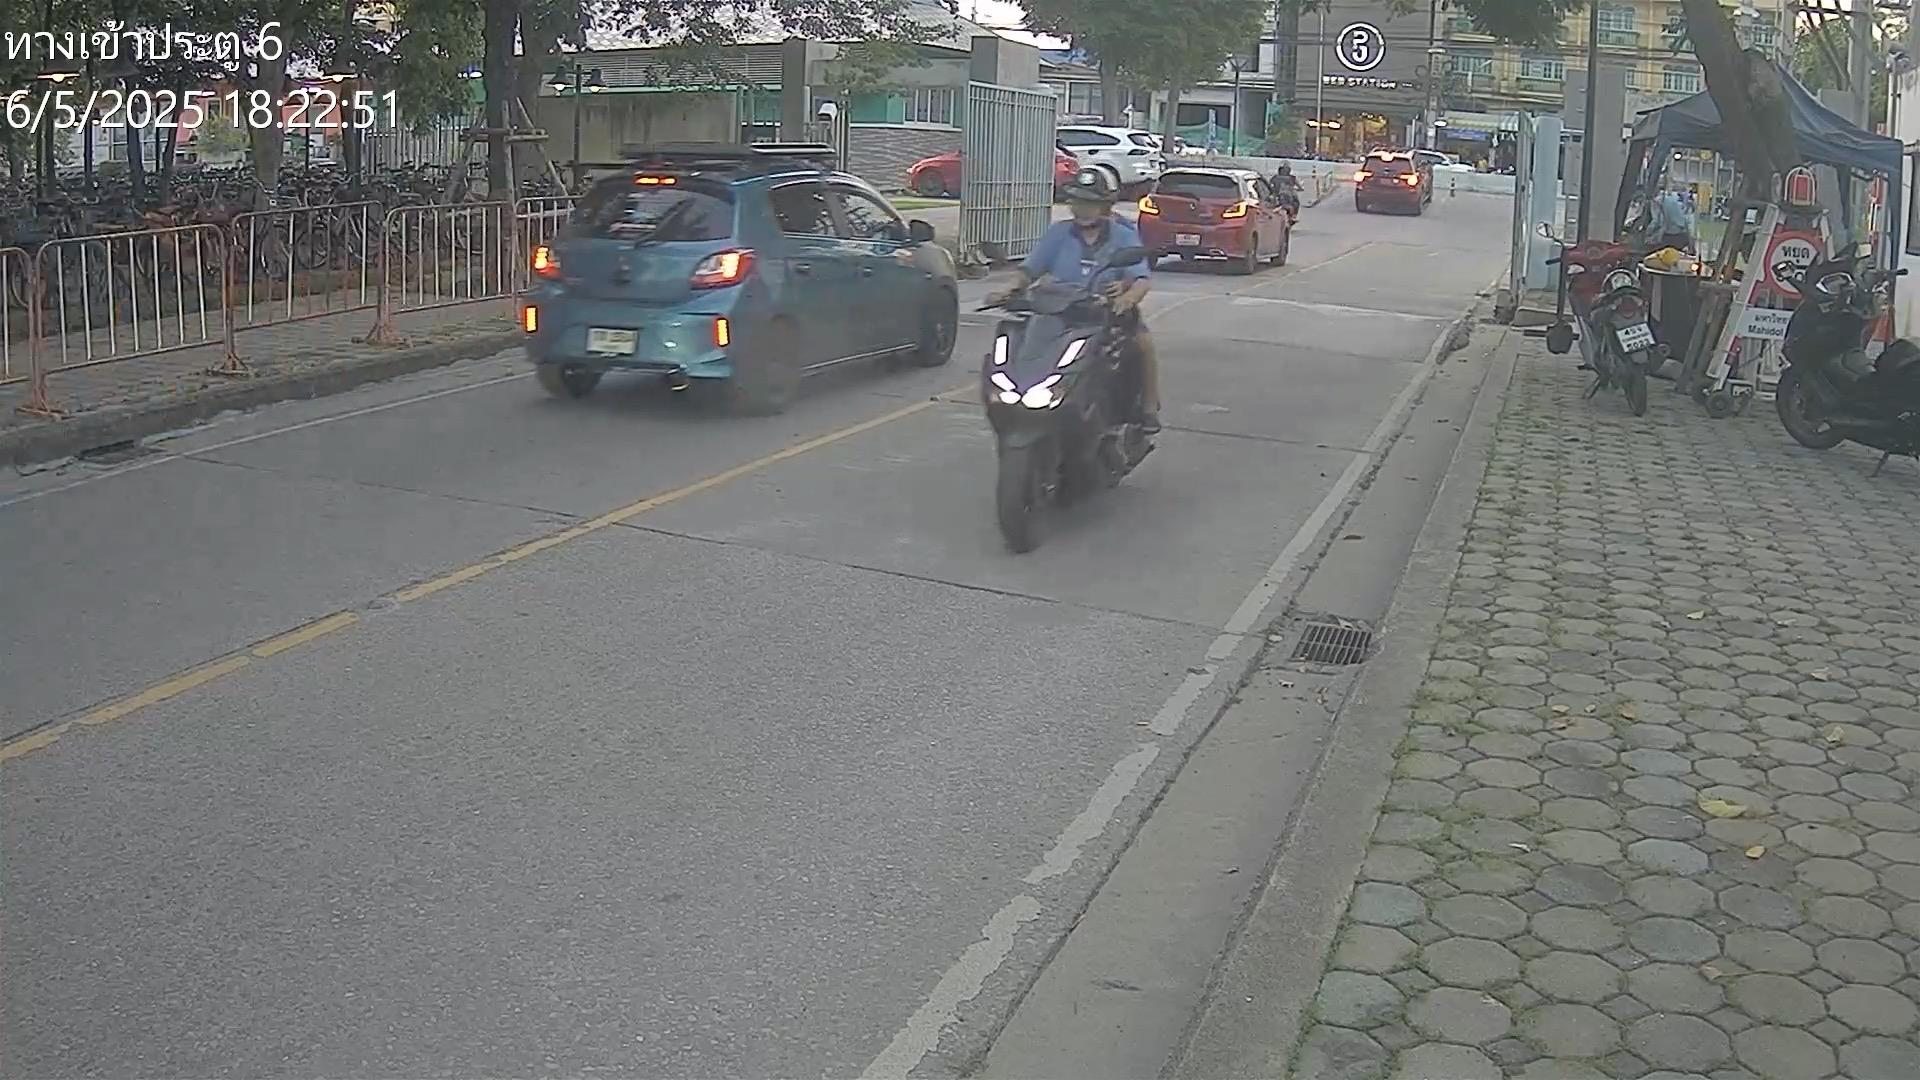With-Helmet: (1063, 165, 1121, 207), (1279, 158, 1292, 170)
